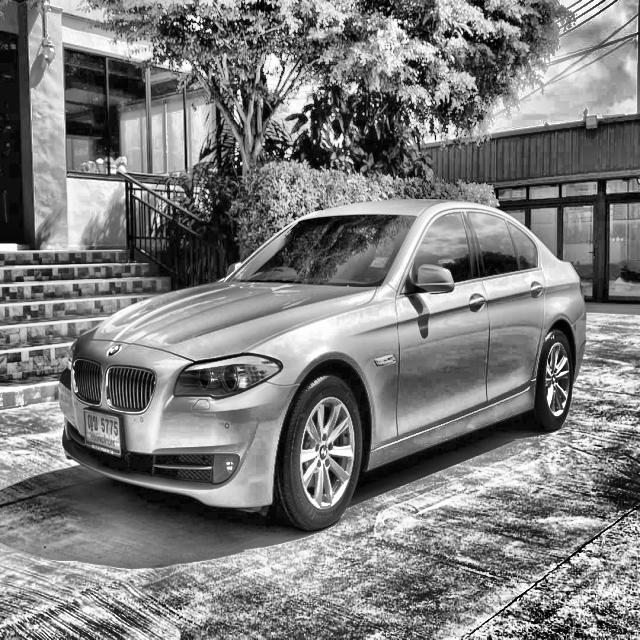license-plate: (84, 405, 123, 458)
